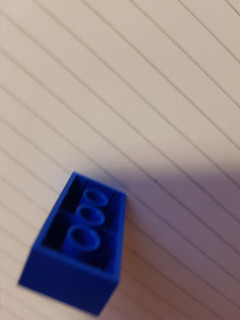2x4 blue: (17, 166, 131, 318)
